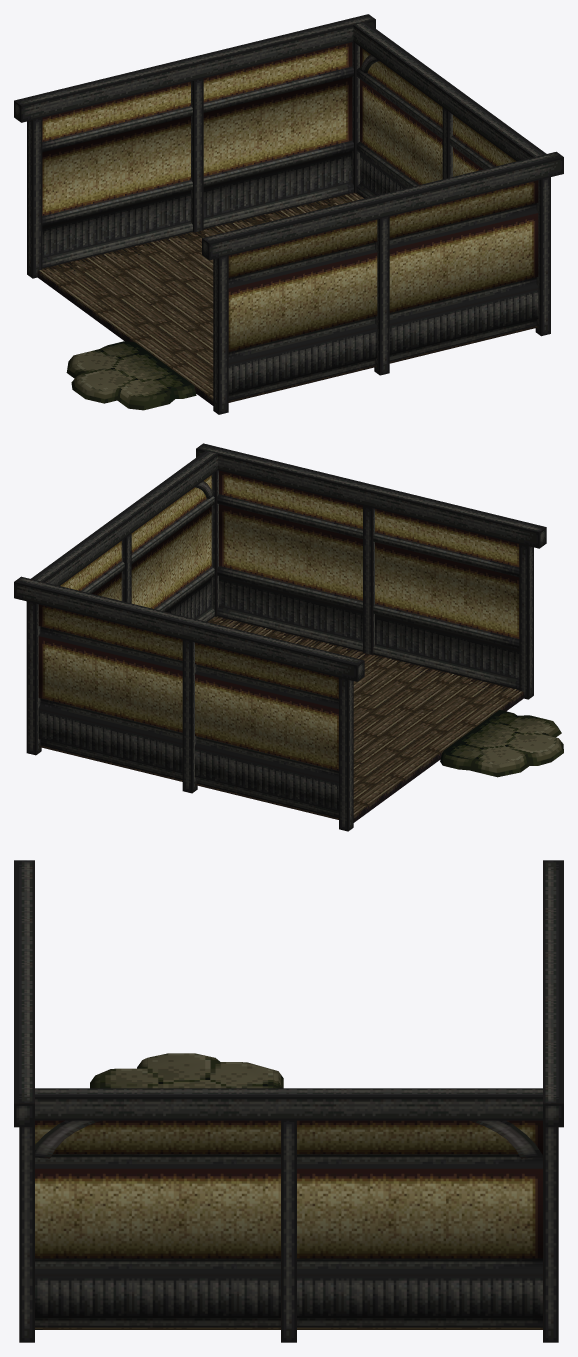
The model's file is EnvBdgMD_Forest_A_Indoor_House_B.FBX.
The picture shows the model from 3 angles, top to bottom: view 1: azimuth 30°, elevation 25°; view 2: azimuth 150°, elevation 25°; view 3: azimuth 270°, elevation 25°; orthographic projection. The views are drawn at different scales.
Parts seen in each view (by area): view 1: EnvBdgMD_Forest_A_Indoor_House_B; view 2: EnvBdgMD_Forest_A_Indoor_House_B; view 3: EnvBdgMD_Forest_A_Indoor_House_B.
Part boxes in pixels (x1,y1,x2,y2): EnvBdgMD_Forest_A_Indoor_House_B: [14, 14, 563, 414]; EnvBdgMD_Forest_A_Indoor_House_B: [14, 443, 563, 831]; EnvBdgMD_Forest_A_Indoor_House_B: [14, 860, 563, 1342].
Size of the model in its own units: 1320 by 525 by 1050.
